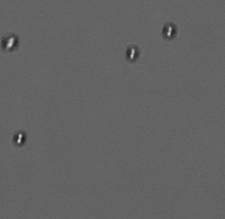Living Cell: (2, 32, 19, 52), (124, 44, 140, 62), (161, 22, 177, 39), (12, 130, 26, 146)
